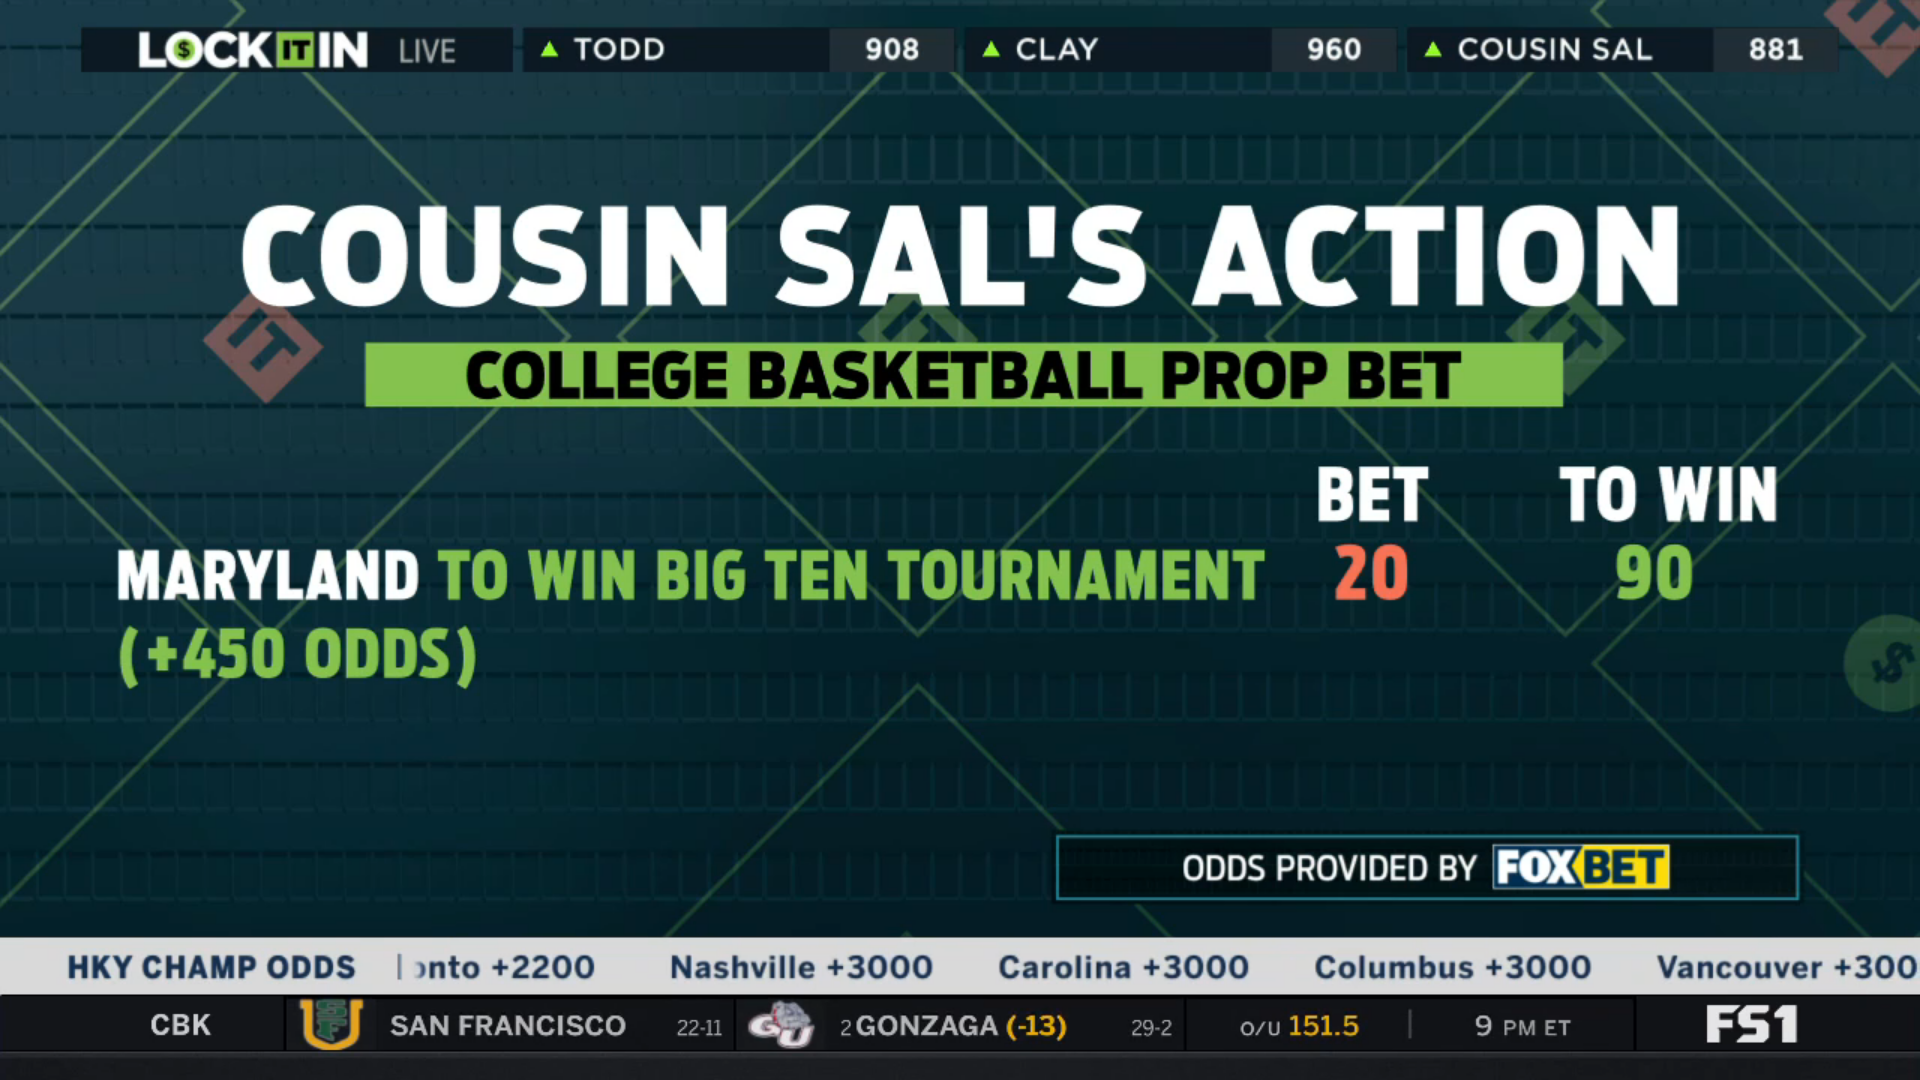Bet: (105, 535, 1275, 699)
Bet Amount: (1307, 455, 1437, 612)
Subtitle: (353, 331, 1576, 417)
Title: (228, 193, 1696, 320)
To Win: (1545, 452, 1792, 615)
Top Bar: (73, 17, 1836, 79)
